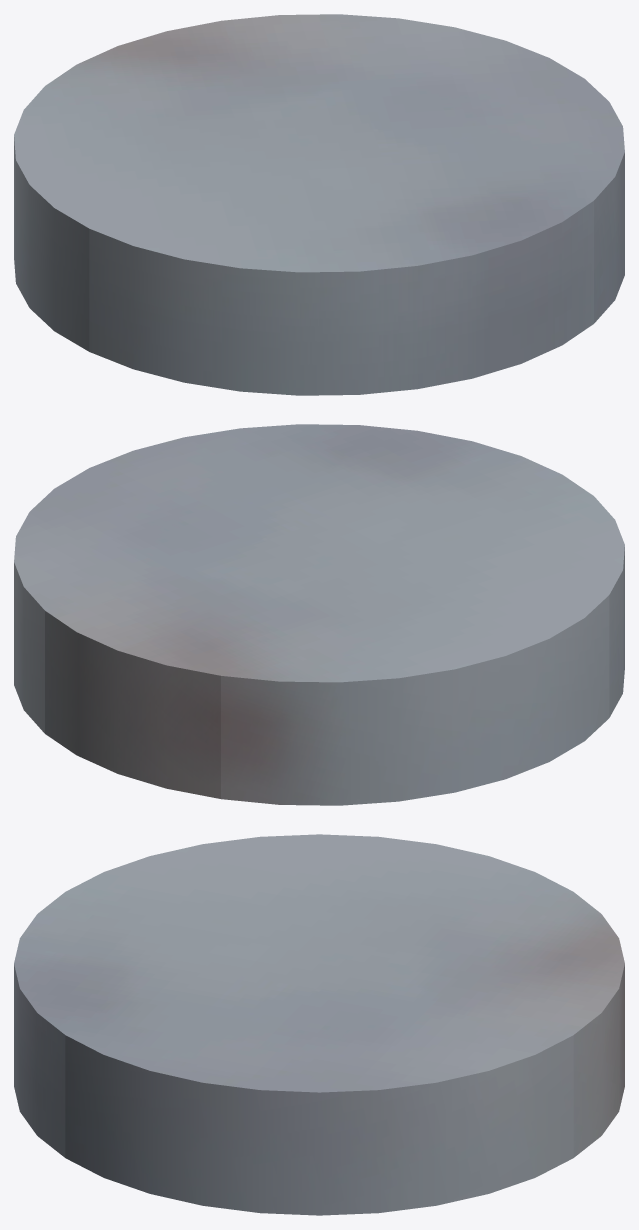
File: needle__needle_hub.glb
The picture shows the model from 3 angles, top to bottom: view 1: azimuth 30°, elevation 25°; view 2: azimuth 150°, elevation 25°; view 3: azimuth 270°, elevation 25°; orthographic projection.
Visible parts, largest first — view 1: geometry_0; view 2: geometry_0; view 3: geometry_0.
Boxes of the visible parts, x1,y1,x2,y2 form: geometry_0: [14, 14, 624, 395]; geometry_0: [14, 424, 624, 805]; geometry_0: [14, 834, 624, 1215].
Bounding box in the file's own units: 0.018 × 0.004 × 0.018.
1 material, 1 textured.
